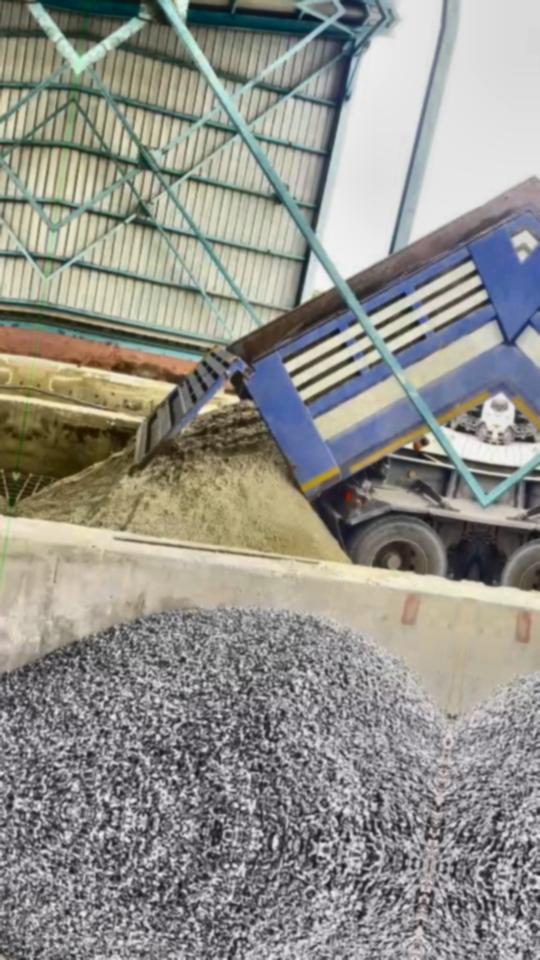gravel: (0, 608, 450, 865)
sand: (14, 401, 348, 562)
